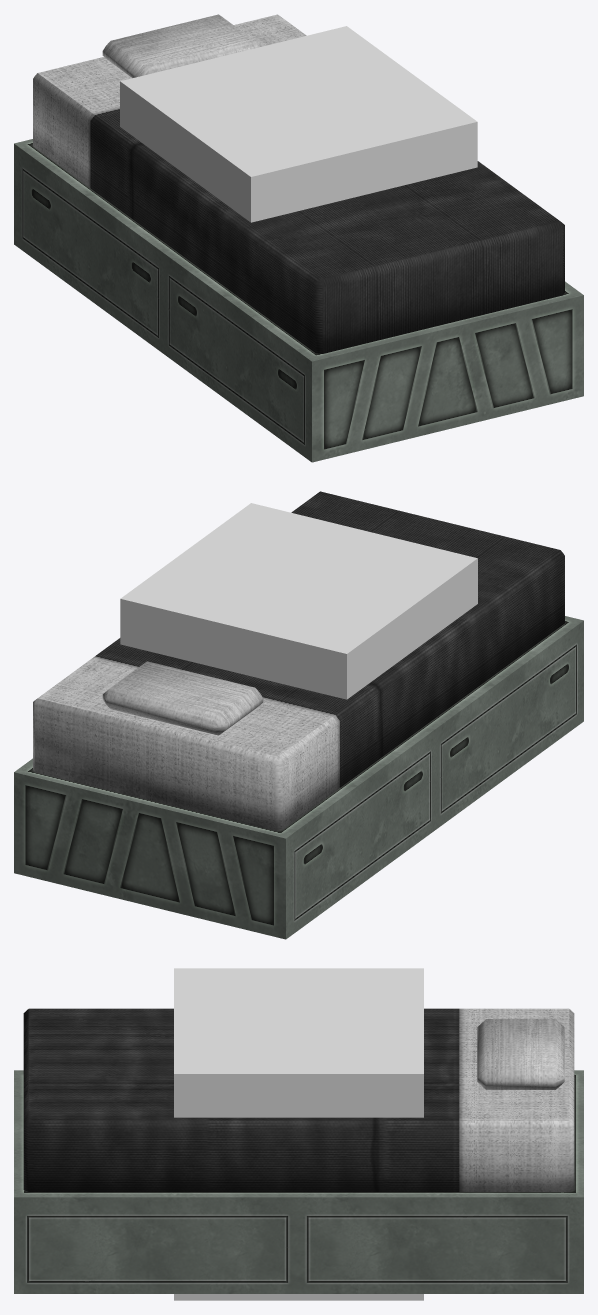
Rendered from pbscen09.FBX.
3 renders of one model, top to bottom at view 1: azimuth 30°, elevation 25°; view 2: azimuth 150°, elevation 25°; view 3: azimuth 270°, elevation 25°, orthographic. The views are drawn at different scales.
Parts seen in each view (by area): view 1: pbscen09, hp_dummyroot; view 2: pbscen09, hp_dummyroot; view 3: pbscen09, hp_dummyroot.
Part boxes in pixels (bbox=[...]): pbscen09: bbox=[14, 14, 583, 462]; hp_dummyroot: bbox=[120, 26, 477, 222]; pbscen09: bbox=[14, 491, 583, 939]; hp_dummyroot: bbox=[120, 503, 477, 699]; pbscen09: bbox=[14, 1008, 583, 1293]; hp_dummyroot: bbox=[174, 968, 423, 1300].
Bounding box in the file's own units: 1.2 × 2.28 × 1.
